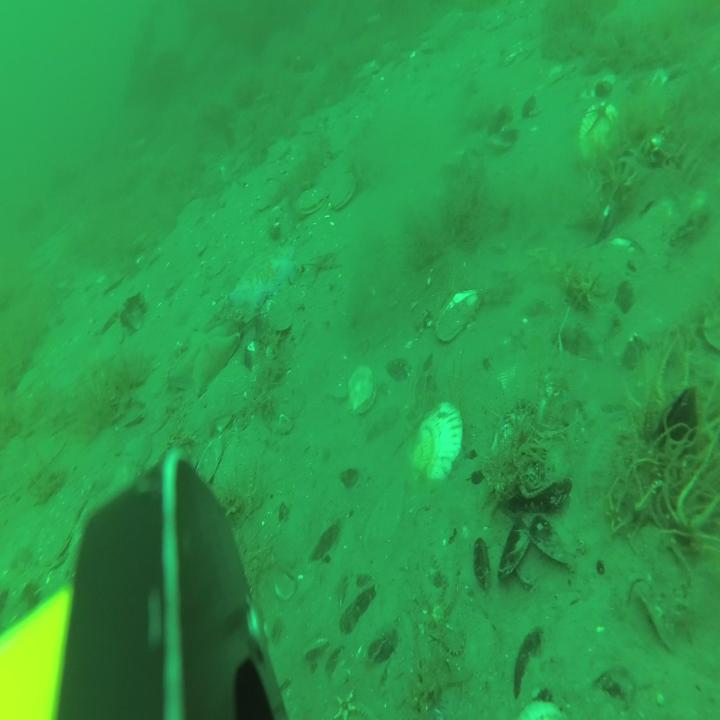scallop: (406, 400, 464, 482), (432, 289, 482, 340), (580, 99, 622, 159), (347, 365, 375, 412), (333, 170, 358, 213), (294, 183, 328, 212)
starfish: (167, 317, 241, 397), (228, 236, 305, 305)
